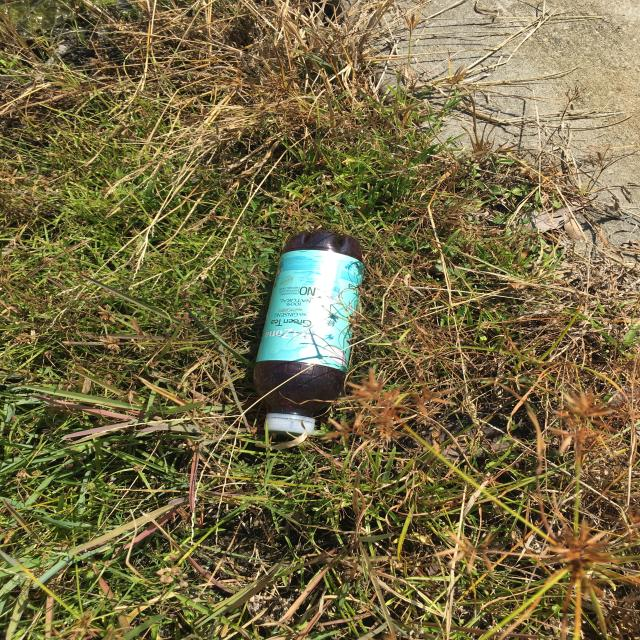litter: (291, 195, 597, 301)
